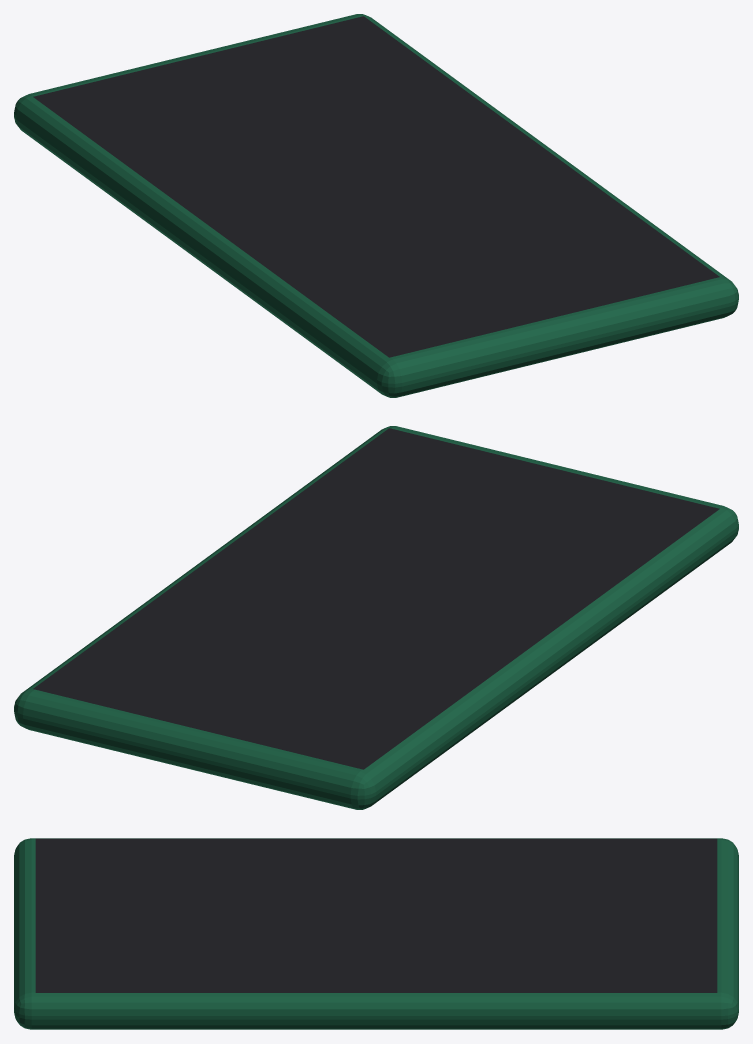
File: Phone_79.glb
The picture shows the model from 3 angles, top to bottom: view 1: azimuth 30°, elevation 25°; view 2: azimuth 150°, elevation 25°; view 3: azimuth 270°, elevation 25°; orthographic projection. The views are drawn at different scales.
Parts seen in each view (by area): view 1: Phone_Screen, Phone_Body; view 2: Phone_Screen, Phone_Body; view 3: Phone_Screen, Phone_Body.
Boxes of the visible parts, x1,y1,x2,y2 form: Phone_Screen: (33, 16, 719, 357); Phone_Body: (14, 14, 738, 397); Phone_Screen: (33, 428, 719, 769); Phone_Body: (14, 426, 738, 809); Phone_Screen: (35, 838, 717, 992); Phone_Body: (14, 838, 738, 1029).
Size of the model in its own units: 0.0771 by 0.0077 by 0.1408.
